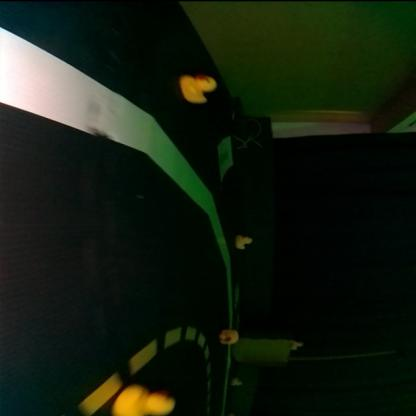Duckie: (114, 385, 177, 415), (180, 74, 218, 102), (220, 330, 239, 344), (237, 236, 253, 249), (233, 378, 242, 384)
